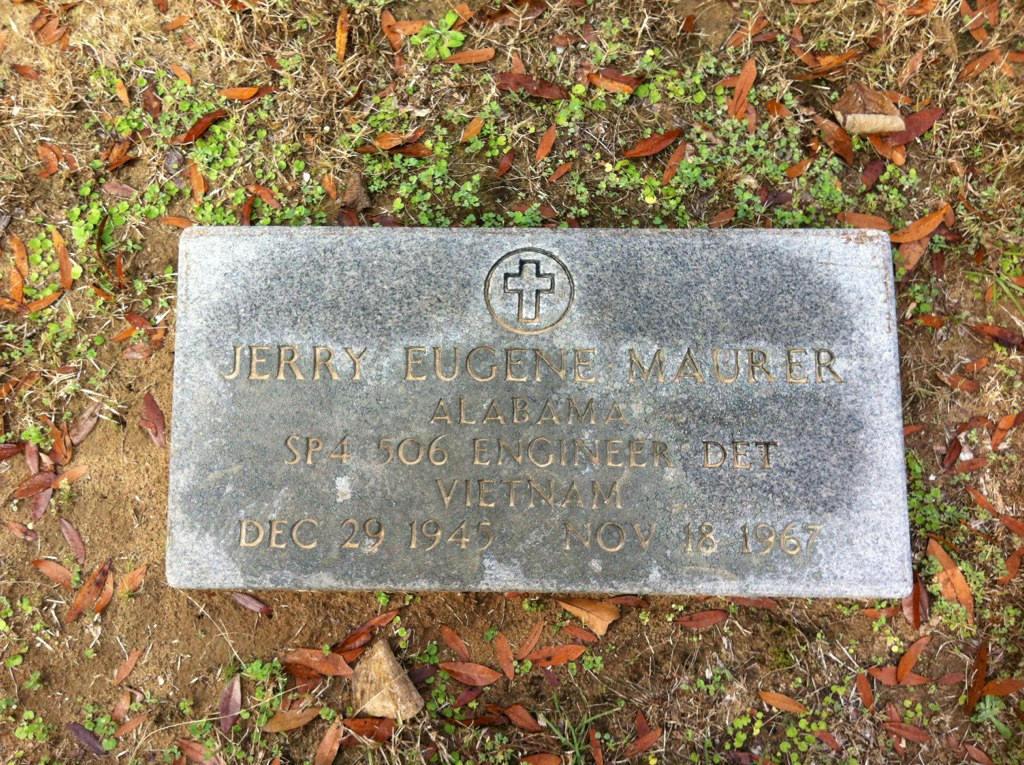flat: (164, 224, 915, 597)
